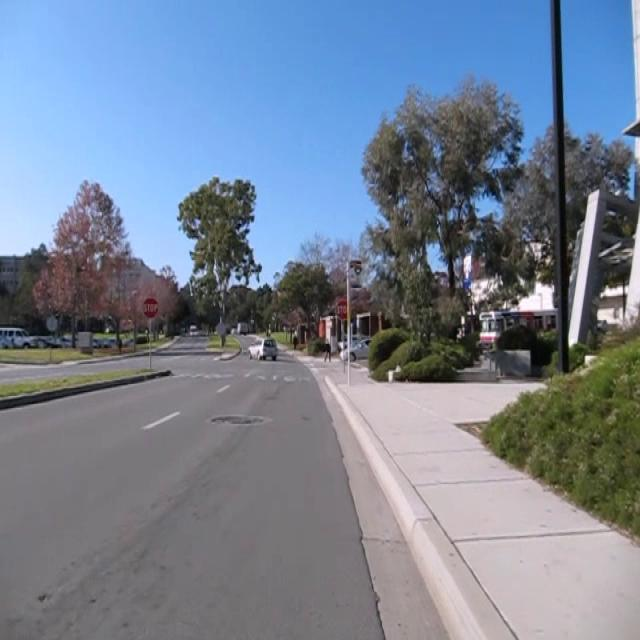stop: (141, 296, 159, 319), (335, 297, 351, 320)
